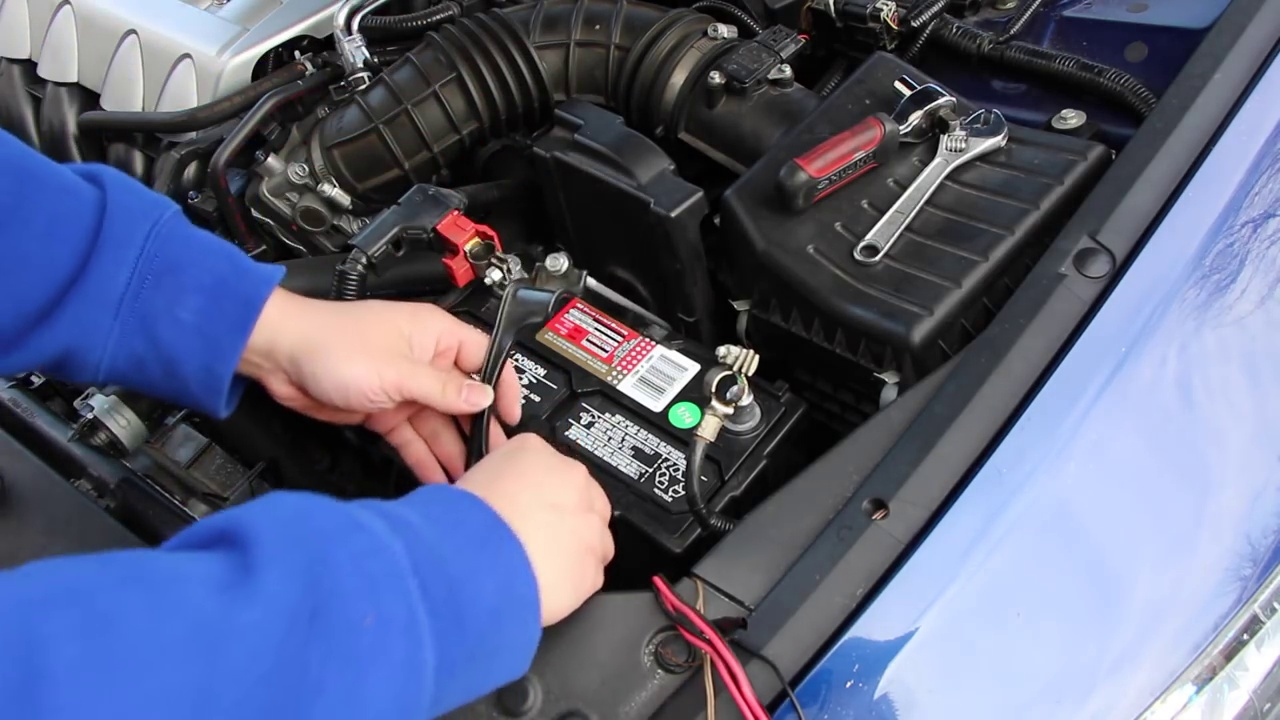battery: (430, 222, 788, 552)
neg_disconnected: (669, 318, 768, 475)
pos_connected: (407, 191, 532, 312)
